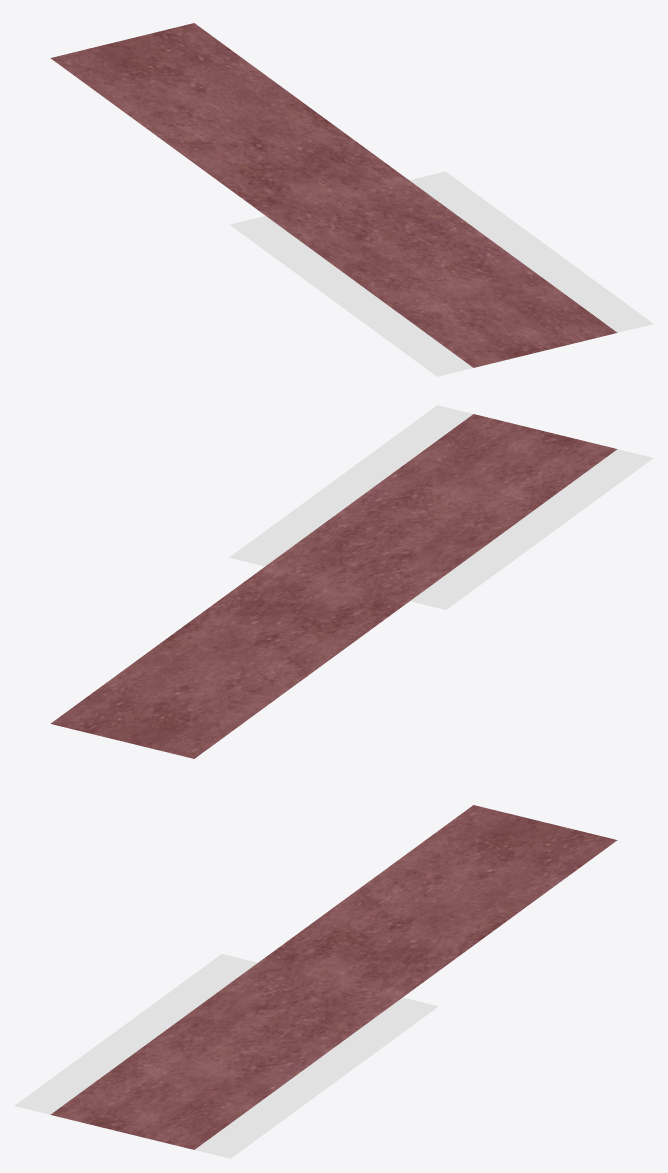
Rendered from BikeCrossWalk.fbx.
3 renders of one model, top to bottom at view 1: azimuth 30°, elevation 25°; view 2: azimuth 150°, elevation 25°; view 3: azimuth 330°, elevation 25°, orthographic.
Visible parts, largest first — view 1: BikeCrosswalk; view 2: BikeCrosswalk; view 3: BikeCrosswalk.
Part boxes in pixels (bbox=[...]): BikeCrosswalk: bbox=[50, 23, 653, 376]; BikeCrosswalk: bbox=[50, 405, 653, 758]; BikeCrosswalk: bbox=[14, 805, 617, 1158].
Bounding box in the file's own units: 73.45 × 4.05e-05 × 249.
